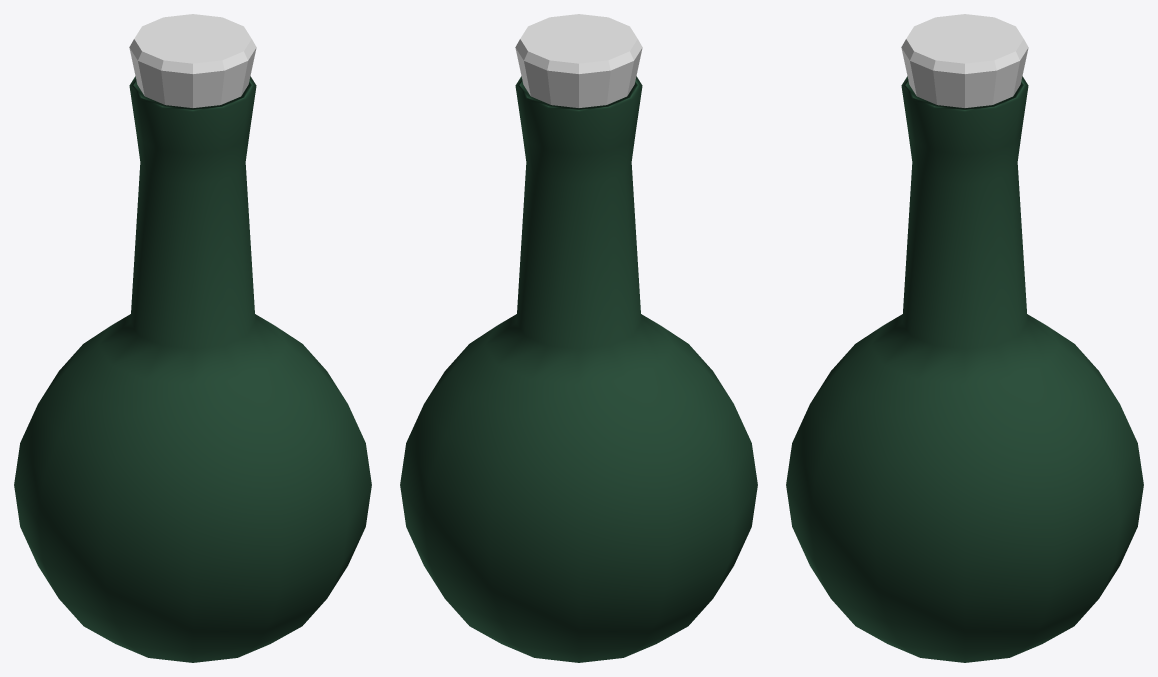
Rendered from flask01.fbx.
3 renders of one model, left to right at view 1: azimuth 30°, elevation 25°; view 2: azimuth 150°, elevation 25°; view 3: azimuth 270°, elevation 25°, orthographic.
Parts seen in each view (by area): view 1: flask01; view 2: flask01; view 3: flask01.
Part boxes in pixels (left/top/right/bottom): flask01: left=14, top=14, right=371, bottom=662; flask01: left=400, top=14, right=757, bottom=662; flask01: left=786, top=14, right=1143, bottom=662.
Size of the model in its own units: 0.7097 by 1.33 by 0.7097.
